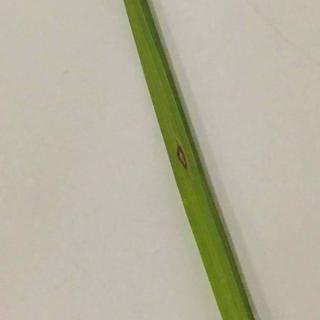Blast: (164, 121, 205, 190)
